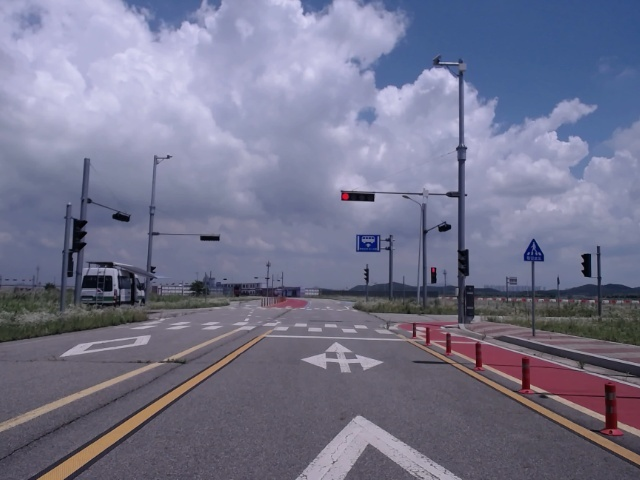red_4: (341, 192, 374, 202)
